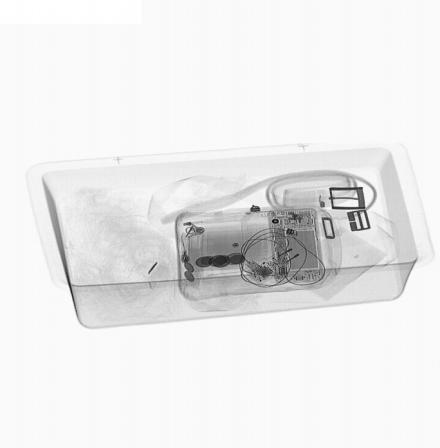Lighter: (178, 232, 190, 263)
